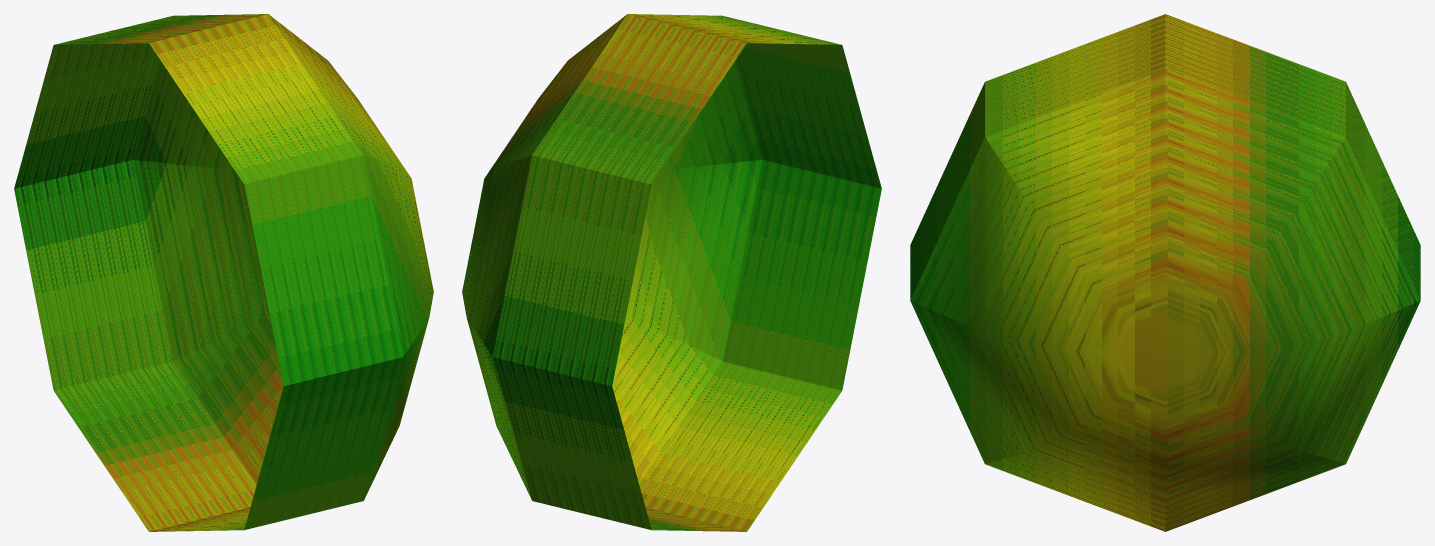
Rendered from Vine.dae.
The picture shows the model from 3 angles, left to right: view 1: azimuth 30°, elevation 25°; view 2: azimuth 150°, elevation 25°; view 3: azimuth 270°, elevation 25°; orthographic projection. The views are drawn at different scales.
Parts seen in each view (by area): view 1: Vine; view 2: Vine; view 3: Vine.
Part boxes in pixels (<box>): Vine: <box>14,14,433,531</box>; Vine: <box>462,14,881,531</box>; Vine: <box>910,14,1420,531</box>.
Size of the model in its own units: 1 by 2 by 2.
Materials: 1 (1 with a texture image).
